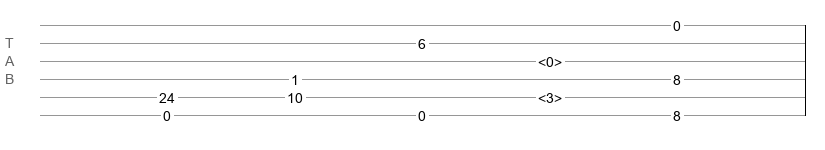0: (163, 108, 171, 118), (418, 108, 426, 118), (673, 18, 681, 28)
1: (291, 72, 299, 82)
10: (287, 90, 303, 100)
24: (159, 90, 175, 100)
6: (418, 36, 426, 46)
8: (673, 72, 681, 82), (673, 108, 681, 118)
harmonic: (538, 90, 562, 100), (538, 54, 562, 64)
